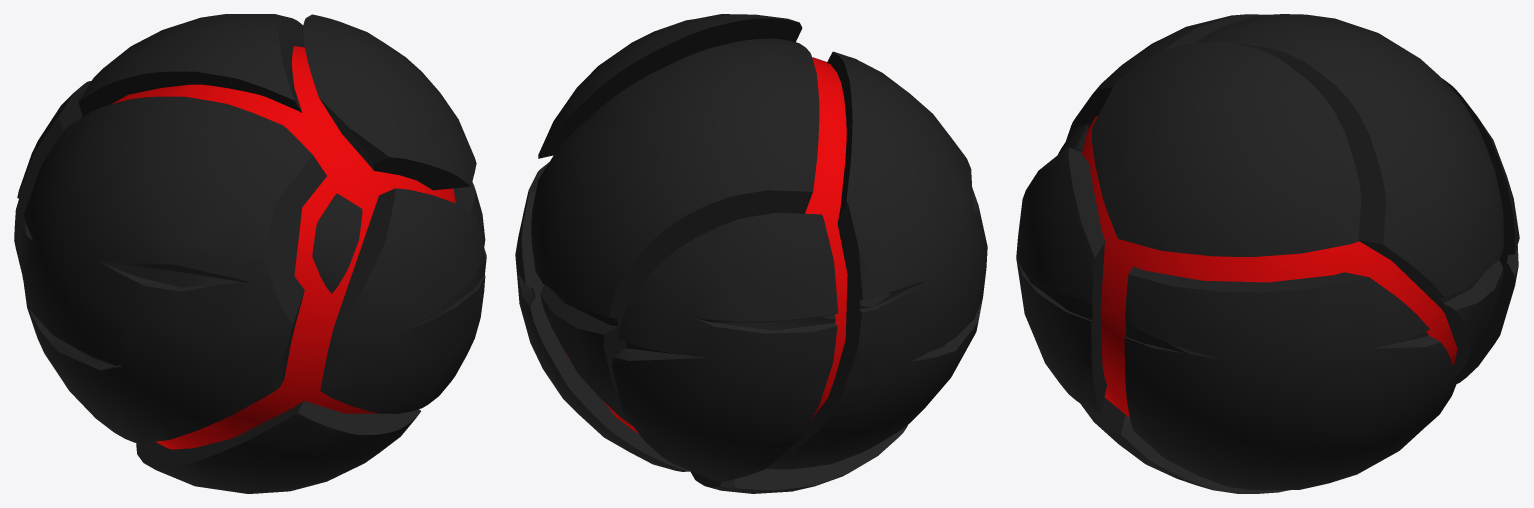
File: Planet_11.glb
The picture shows the model from 3 angles, left to right: view 1: azimuth 30°, elevation 25°; view 2: azimuth 150°, elevation 25°; view 3: azimuth 270°, elevation 25°; orthographic projection. The views are drawn at different scales.
Visible parts, largest first — view 1: Planet_11, Planet_11.001; view 2: Planet_11, Planet_11.001; view 3: Planet_11, Planet_11.001.
Part boxes in pixels (<box>): Planet_11: <box>14,14,486,493</box>; Planet_11.001: <box>111,46,455,449</box>; Planet_11: <box>515,14,987,493</box>; Planet_11.001: <box>566,57,847,468</box>; Planet_11: <box>1016,14,1519,493</box>; Planet_11.001: <box>1081,116,1457,417</box>.
Bounding box in the file's own units: 5.59 × 5.67 × 5.74.
2 materials, 1 textured.
